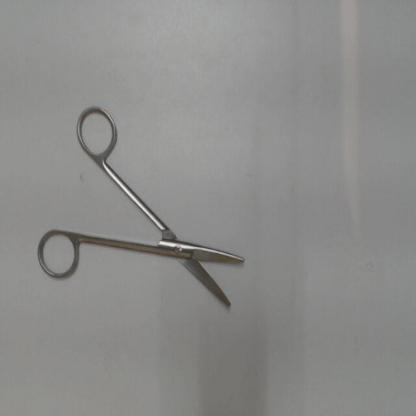Curved Mayo Scissors: (33, 99, 250, 318)
